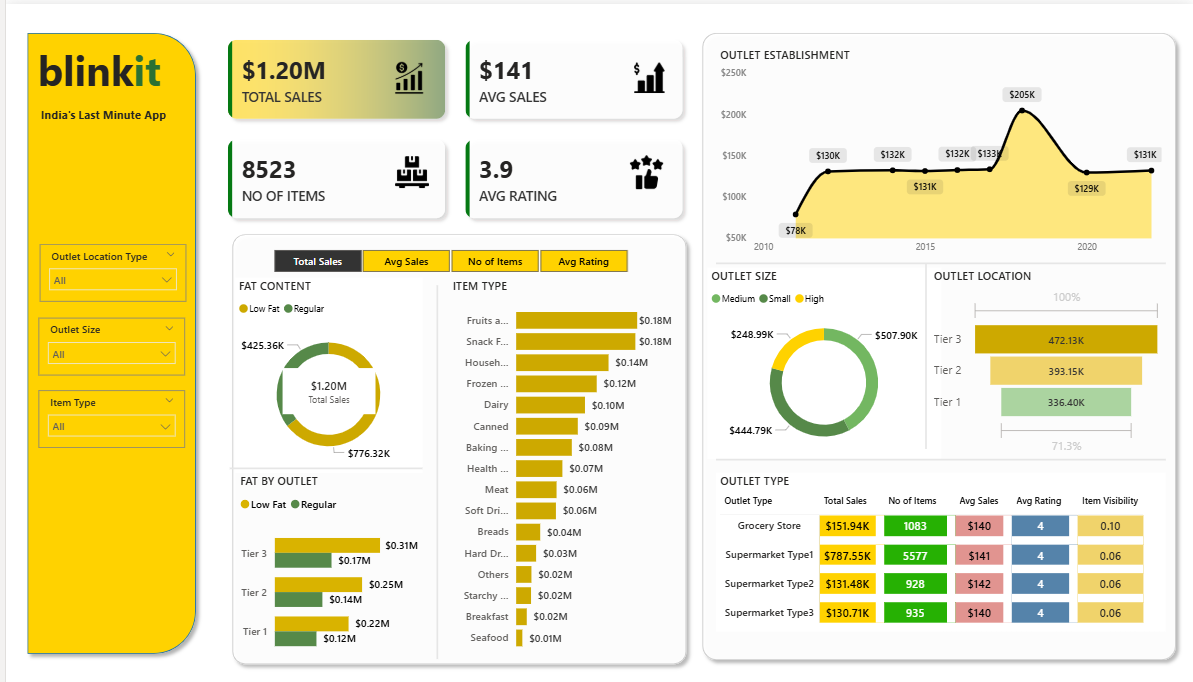

This screenshot's page, from the dashboard's own definition file:
{"tool":"powerbi","page":{"name":"Page 1","canvas":[1400,800],"ordinal":0},"visuals":[{"type":"shape","box":[16.2,25.1,216.7,750.3],"z":0},{"type":"textbox","box":[33,40.5,171.1,76.5],"z":1000},{"type":"textbox","box":[27,117.1,177.1,31.5],"z":2000},{"type":"cardVisual","fields":{"Data":["BlinkIT Grocery Data.Total Sales","BlinkIT Grocery Data.Avg Sales","BlinkIT Grocery Data.No of Items","BlinkIT Grocery Data.Avg Rating"]},"box":[232.9,13.3,594,269.7],"z":3000},{"type":"shape","box":[258.2,262.6,553.3,525.3],"z":4000},{"type":"donutChart","title":"FAT CONTENT","fields":{"Y":["BlinkIT Grocery Data.Total Sales"],"Category":["BlinkIT Grocery Data.Item Fat Content"]},"box":[270,323.1,221.3,230.2],"z":5000},{"type":"slicer","fields":{"Values":["Matrics.Matrics"]},"box":[290.7,283.3,466.3,39.8],"z":6000},{"type":"cardVisual","fields":{"Data":["BlinkIT Grocery Data.Total Sales"]},"box":[321.7,425,119.5,64.9],"z":7000},{"type":"clusteredBarChart","title":"FAT BY OUTLET","fields":{"Y":["BlinkIT Grocery Data.Total Sales"],"Category":["BlinkIT Grocery Data.Outlet Location Type"],"Series":["BlinkIT Grocery Data.Item Fat Content"]},"box":[271.5,553.3,219.9,230.2],"z":8000},{"type":"shape","box":[264.1,525.3,227.2,45.7],"z":9000},{"type":"shape","box":[454.5,332,109.2,441.2],"z":10000},{"type":"barChart","title":"ITEM TYPE","fields":{"Y":["BlinkIT Grocery Data.Total Sales"],"Category":["BlinkIT Grocery Data.Item Type"]},"box":[522.3,323.1,268.6,450],"z":11000},{"type":"shape","box":[812.2,25.1,576.3,757.6],"z":12000},{"type":"lineChart","title":"OUTLET ESTABLISHMENT","fields":{"Y":["BlinkIT Grocery Data.Total Sales"],"Category":["BlinkIT Grocery Data.Outlet Establishment Year"]},"box":[837.2,50.1,530.6,253.5],"z":13000},{"type":"shape","box":[837.2,283,530.6,45.7],"z":14000},{"type":"donutChart","title":"OUTLET SIZE","fields":{"Y":["BlinkIT Grocery Data.Total Sales"],"Category":["BlinkIT Grocery Data.Outlet Size"]},"box":[826.9,311,275.6,225.5],"z":15000},{"type":"shape","box":[1030.3,306.6,109.1,218.2],"z":16000},{"type":"funnel","title":"OUTLET LOCATION","fields":{"Y":["Sum(BlinkIT Grocery Data.Sales)"],"Category":["BlinkIT Grocery Data.Outlet Location Type"]},"box":[1089.3,311,278.6,225.5],"z":17000},{"type":"shape","box":[837.2,514.4,530.6,45.7],"z":18000},{"type":"pivotTable","title":"OUTLET TYPE","fields":{"Rows":["BlinkIT Grocery Data.Outlet Type"],"Values":["BlinkIT Grocery Data.Total Sales","BlinkIT Grocery Data.No of Items","BlinkIT Grocery Data.Avg Sales","BlinkIT Grocery Data.Avg Rating","Avg(BlinkIT Grocery Data.Item Visibility)"]},"box":[837.2,552.7,530.6,187.2],"z":19000},{"type":"slicer","fields":{"Values":["BlinkIT Grocery Data.Outlet Location Type"]},"box":[39.8,283,172.5,67.8],"z":20000},{"type":"slicer","fields":{"Values":["BlinkIT Grocery Data.Outlet Size"]},"box":[38.3,370,172.5,67.8],"z":21000},{"type":"slicer","fields":{"Values":["BlinkIT Grocery Data.Item Type"]},"box":[38.3,455.5,172.5,67.8],"z":22000},{"type":"image","box":[726.7,67.8,63.4,38.3],"z":23000},{"type":"image","box":[454,178.4,50.1,39.8],"z":24000},{"type":"image","box":[723.7,178.4,63.4,39.8],"z":25000},{"type":"image","box":[446.6,67.8,57.5,38.3],"z":26000}]}

Visuals, with their boxes in screenshot pixels (x1, y1, x2, y2), scaled from the page's 1400x800 canvas onto the 1193x682 screenshot:
shape: x1=14, y1=21, x2=198, y2=661
textbox: x1=28, y1=35, x2=174, y2=100
textbox: x1=23, y1=100, x2=174, y2=127
cardVisual - BlinkIT Grocery Data.Total Sales x BlinkIT Grocery Data.Avg Sales: x1=198, y1=11, x2=705, y2=241
shape: x1=220, y1=224, x2=692, y2=672
"FAT CONTENT" donutChart: x1=230, y1=275, x2=419, y2=472
slicer - Matrics.Matrics: x1=248, y1=242, x2=645, y2=275
cardVisual - BlinkIT Grocery Data.Total Sales: x1=274, y1=362, x2=376, y2=418
"FAT BY OUTLET" clusteredBarChart: x1=231, y1=472, x2=419, y2=668
shape: x1=225, y1=448, x2=419, y2=487
shape: x1=387, y1=283, x2=480, y2=659
"ITEM TYPE" barChart: x1=445, y1=275, x2=674, y2=659
shape: x1=692, y1=21, x2=1183, y2=667
"OUTLET ESTABLISHMENT" lineChart: x1=713, y1=43, x2=1166, y2=259
shape: x1=713, y1=241, x2=1166, y2=280
"OUTLET SIZE" donutChart: x1=705, y1=265, x2=939, y2=457
shape: x1=878, y1=261, x2=971, y2=447
"OUTLET LOCATION" funnel: x1=928, y1=265, x2=1166, y2=457
shape: x1=713, y1=439, x2=1166, y2=477
"OUTLET TYPE" pivotTable: x1=713, y1=471, x2=1166, y2=631
slicer - BlinkIT Grocery Data.Outlet Location Type: x1=34, y1=241, x2=181, y2=299
slicer - BlinkIT Grocery Data.Outlet Size: x1=33, y1=315, x2=180, y2=373
slicer - BlinkIT Grocery Data.Item Type: x1=33, y1=388, x2=180, y2=446
image: x1=619, y1=58, x2=673, y2=90
image: x1=387, y1=152, x2=430, y2=186
image: x1=617, y1=152, x2=671, y2=186
image: x1=381, y1=58, x2=430, y2=90
